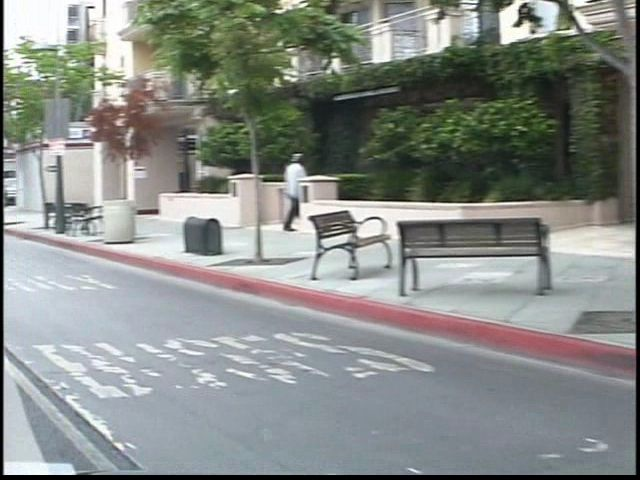person: (261, 145, 289, 237)
